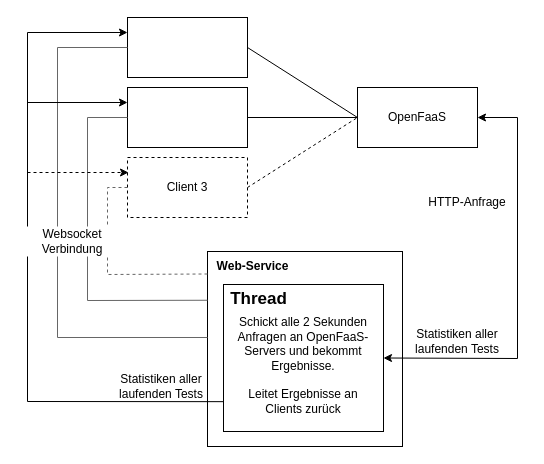
This 544x464 diagram has some shape labels left out. Here are the shapes that lost their labels. From the top down, the box of each, then its label:
(126, 16, 248, 78): Client 1
(126, 86, 248, 148): Client 2
